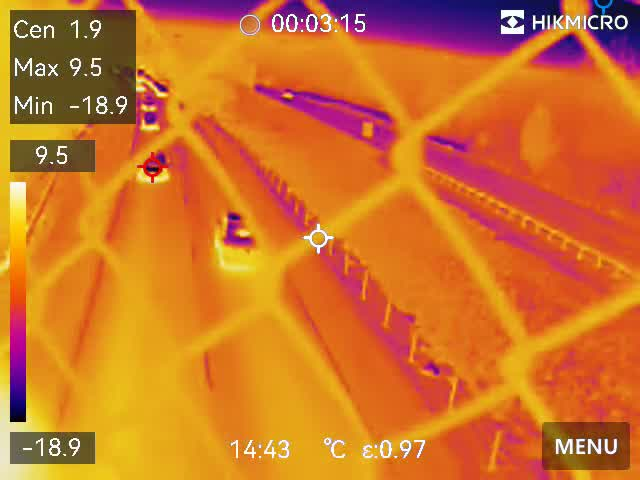vehicle: (208, 206, 255, 269), (141, 144, 171, 193), (142, 113, 164, 139), (140, 100, 161, 113), (276, 90, 294, 103), (156, 89, 167, 97), (148, 79, 158, 87), (152, 85, 166, 89)
